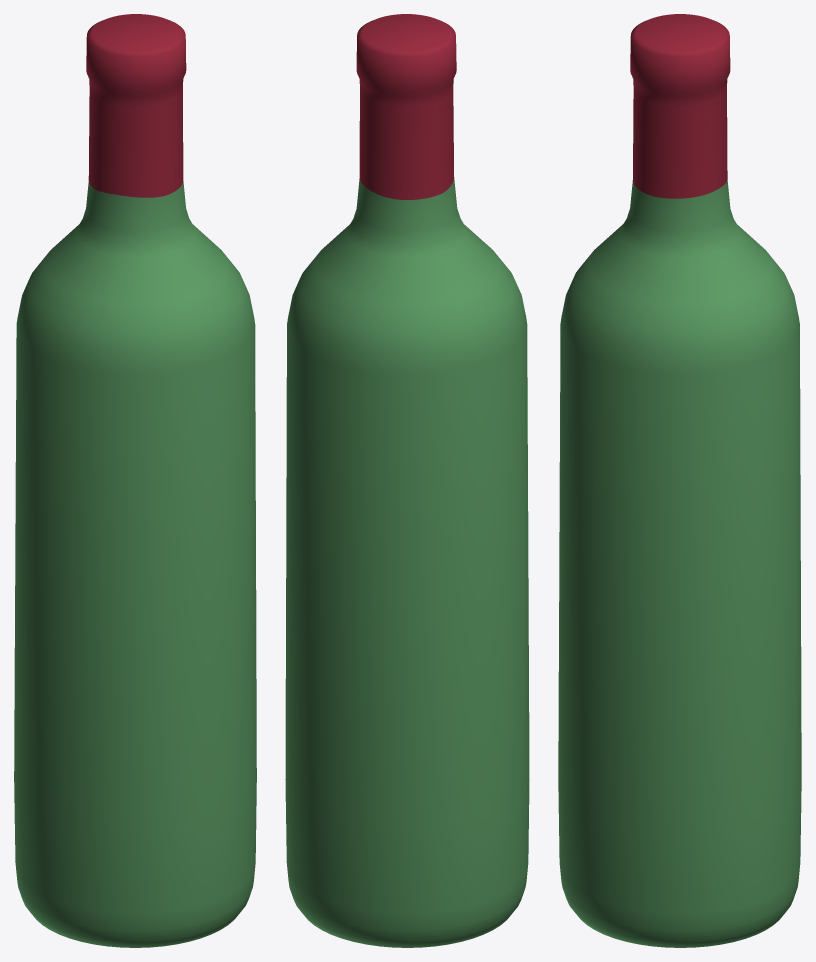
The model's file is bottle_bordeaux.glb.
3 views of the same model, side by side, from view 1: azimuth 30°, elevation 25°; view 2: azimuth 150°, elevation 25°; view 3: azimuth 270°, elevation 25° (orthographic).
Parts seen in each view (by area): view 1: Glass, Cap; view 2: Glass, Cap; view 3: Glass, Cap.
Part boxes in pixels (bbox=[...]): Glass: bbox=[14, 180, 256, 947]; Cap: bbox=[86, 14, 186, 197]; Glass: bbox=[285, 177, 529, 947]; Cap: bbox=[356, 14, 456, 199]; Glass: bbox=[558, 179, 801, 947]; Cap: bbox=[630, 14, 730, 198].
Size of the model in its own units: 0.076 by 0.3008 by 0.0759.
